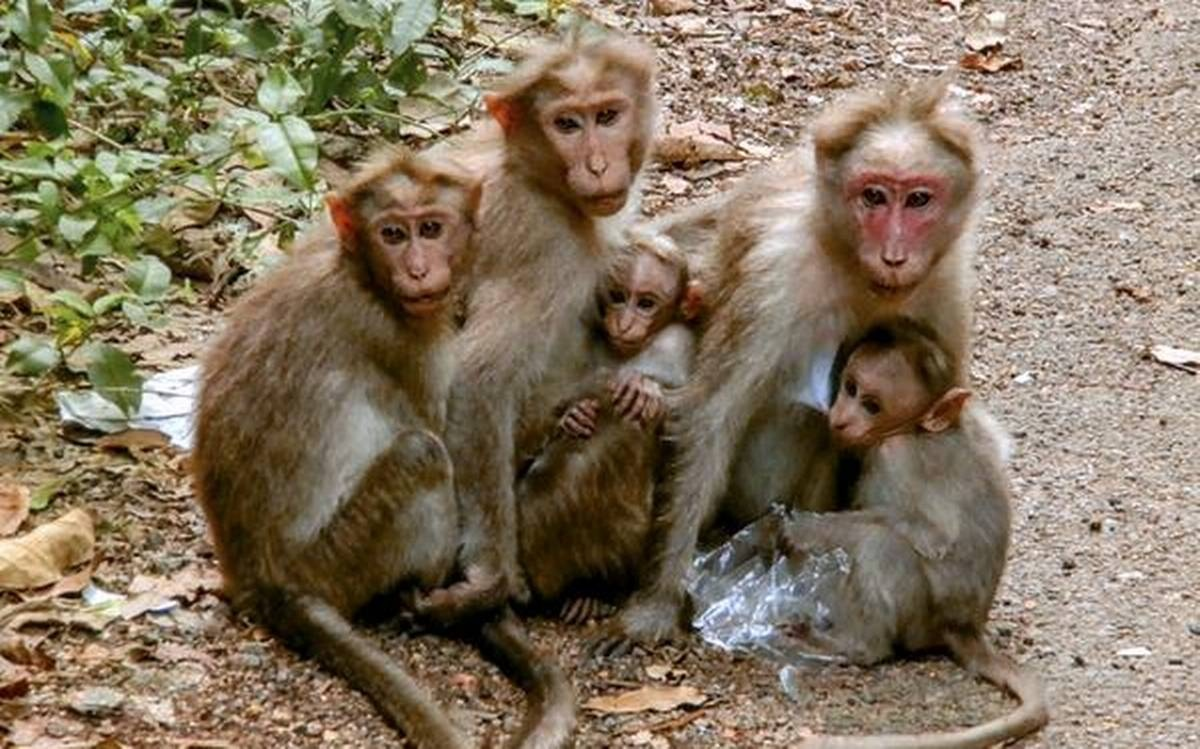monkey: (596, 68, 992, 673), (165, 136, 529, 749), (385, 33, 664, 683), (774, 308, 1059, 747), (519, 222, 721, 531)
